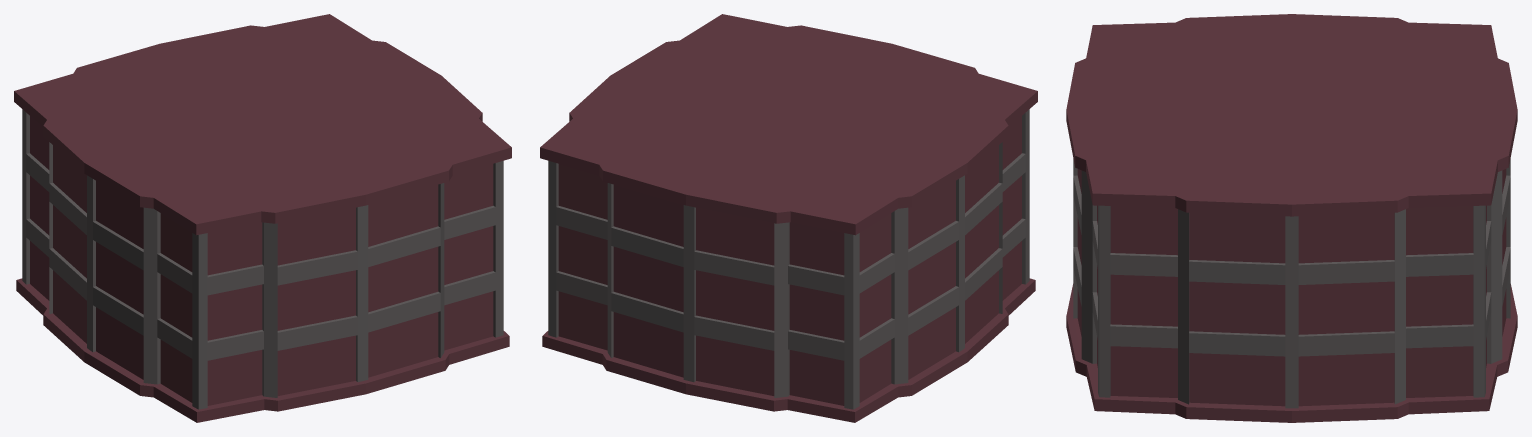
The model's file is skyscraper2-part-middle.fbx.
The picture shows the model from 3 angles, left to right: view 1: azimuth 30°, elevation 25°; view 2: azimuth 150°, elevation 25°; view 3: azimuth 270°, elevation 25°; orthographic projection. The views are drawn at different scales.
Parts seen in each view (by area): view 1: skyscraper2-part-middle; view 2: skyscraper2-part-middle; view 3: skyscraper2-part-middle.
Part boxes in pixels (left/top/right/bottom): skyscraper2-part-middle: left=14, top=14, right=511, bottom=422; skyscraper2-part-middle: left=540, top=14, right=1037, bottom=422; skyscraper2-part-middle: left=1066, top=14, right=1517, bottom=422.
Bounding box in the file's own units: 20.6 × 11 × 20.6.
